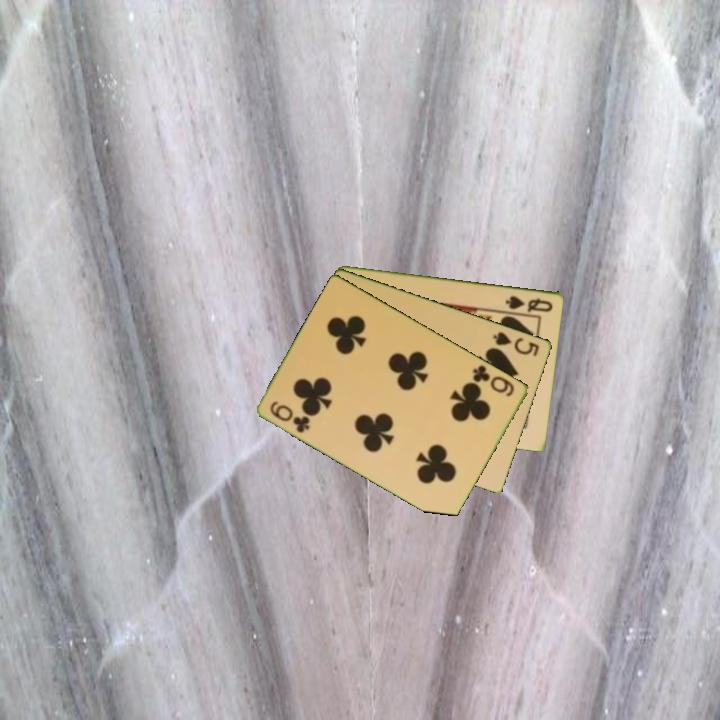5s: (490, 328, 542, 359)
6c: (470, 361, 518, 399), (267, 397, 313, 436)
Qs: (502, 292, 556, 315)
